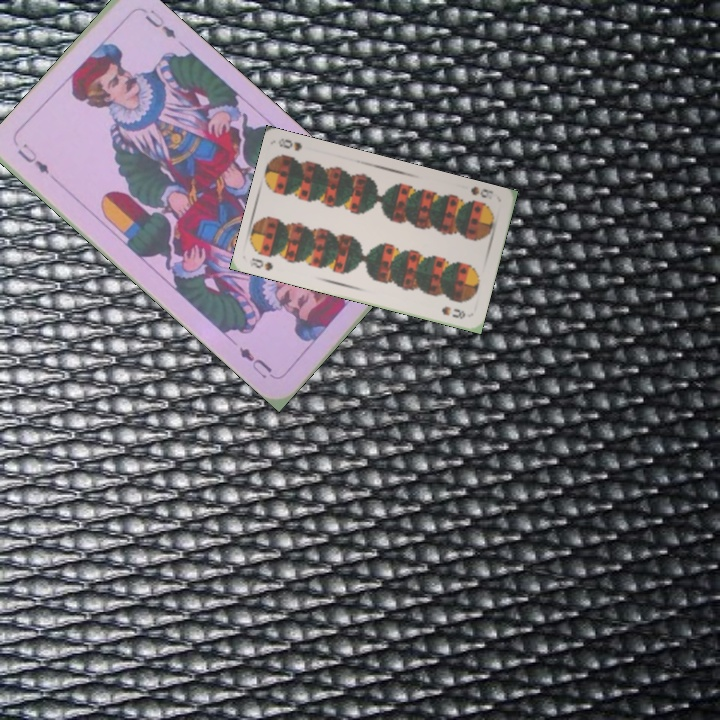EU: (13, 139, 52, 177)
S8: (246, 254, 275, 273), (466, 183, 496, 200)
